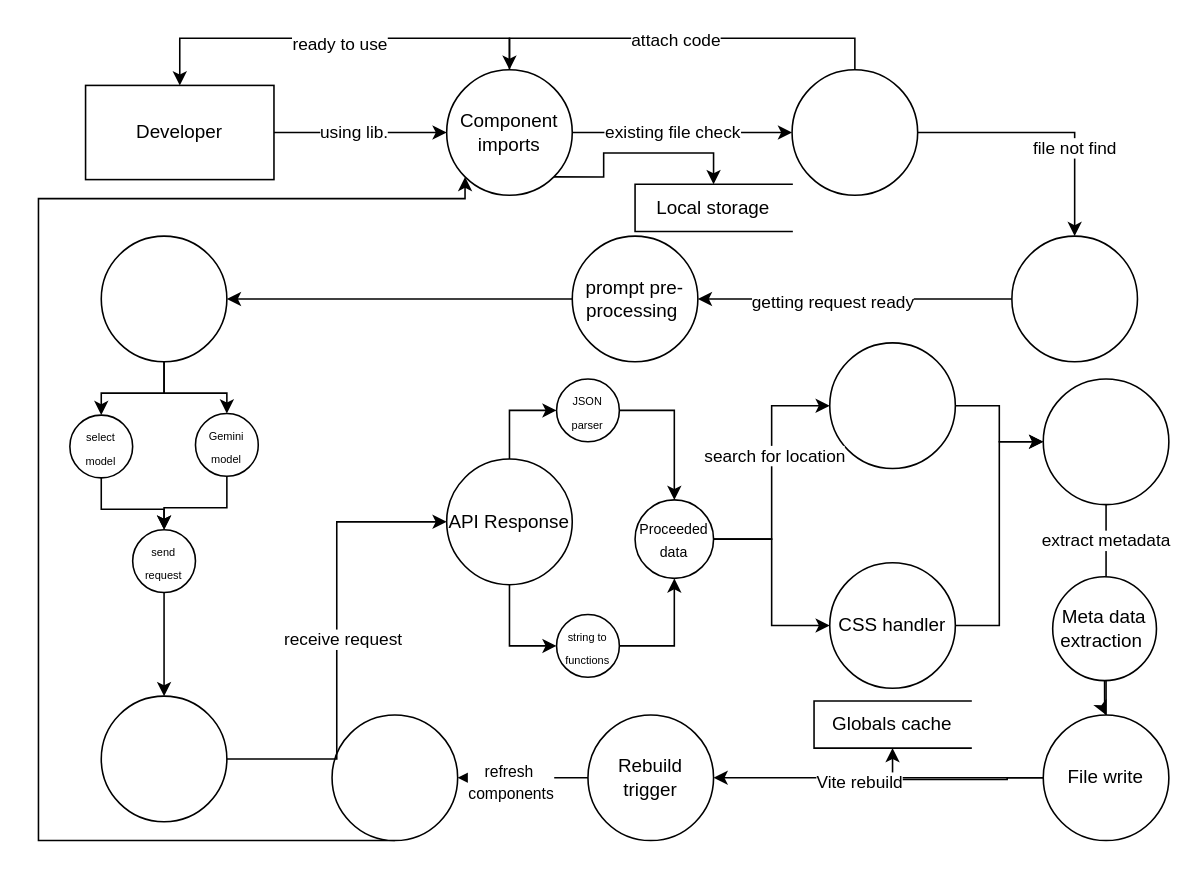
This 1198x881 diagram has some shape labels left out. The centre of each missing label's shape, as x and y in pixels:
"API Request" belongs at pixel 163 298.
"Code formatting" belongs at pixel 1105 441.
"Component Re-render" belongs at pixel 394 777.
"directory finder" belongs at pixel 891 404.
"dynamic import" belongs at pixel 854 131.
"error handling" belongs at pixel 1073 298.
"Gemini API" belongs at pixel 163 758.
